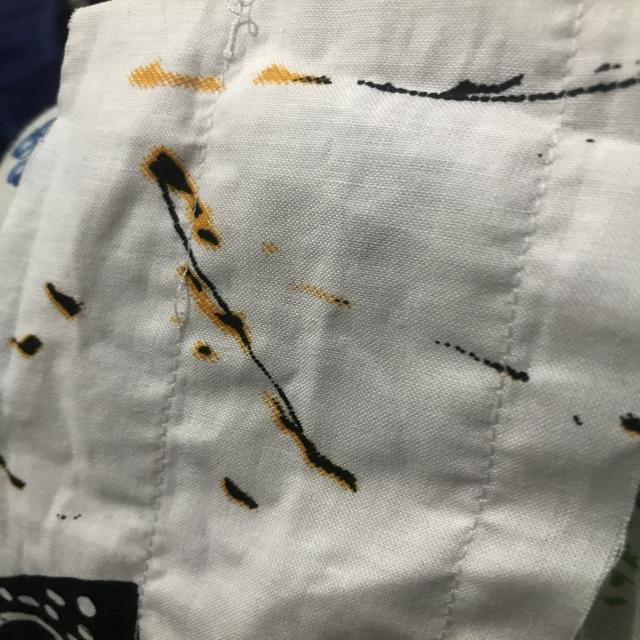good: (153, 366, 185, 459)
skip: (147, 255, 204, 345)
